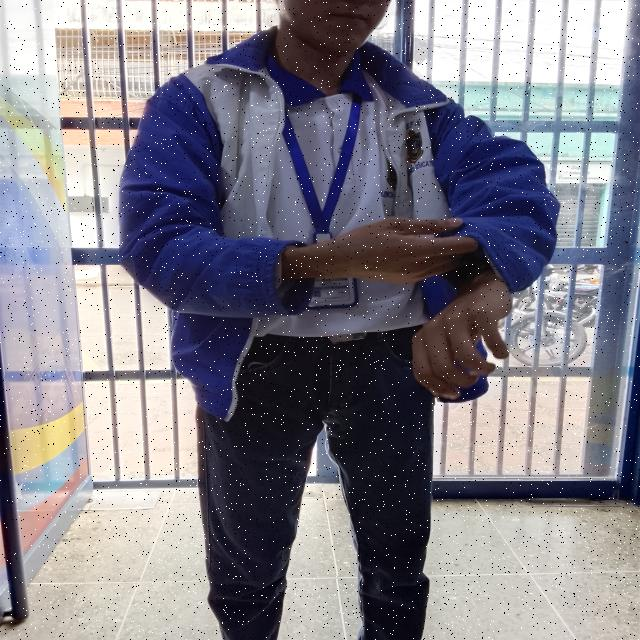carnet: (300, 250, 356, 308)
chaqueta_unefa: (118, 25, 563, 422)
